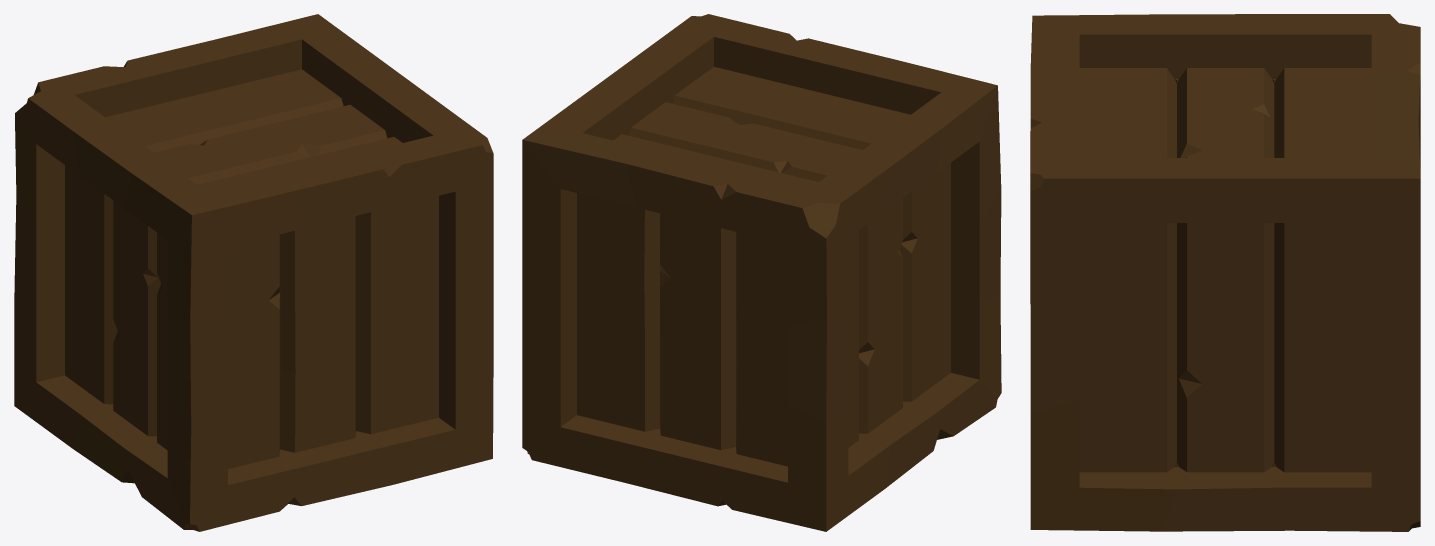
The model's file is dungeon.fbx_Crate.fbx.
3 views of the same model, side by side, from view 1: azimuth 30°, elevation 25°; view 2: azimuth 150°, elevation 25°; view 3: azimuth 270°, elevation 25° (orthographic). The views are drawn at different scales.
Parts seen in each view (by area): view 1: Crate; view 2: Crate; view 3: Crate.
Boxes of the visible parts, bbox=[...] form: Crate: bbox=[14, 14, 493, 531]; Crate: bbox=[522, 14, 1001, 531]; Crate: bbox=[1030, 14, 1420, 531].
Size of the model in its own units: 120 by 120 by 120.
